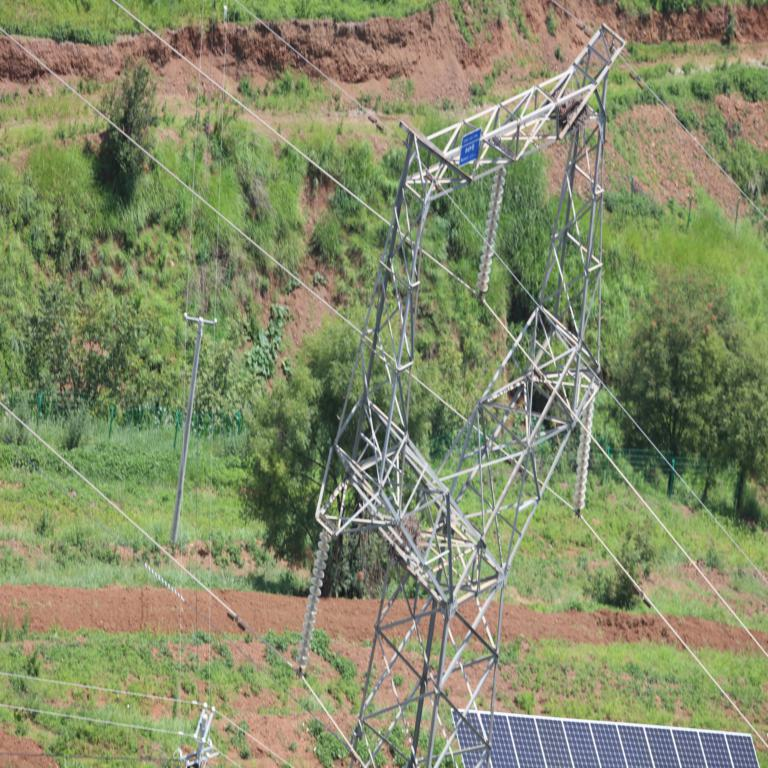nest: (550, 94, 587, 125)
